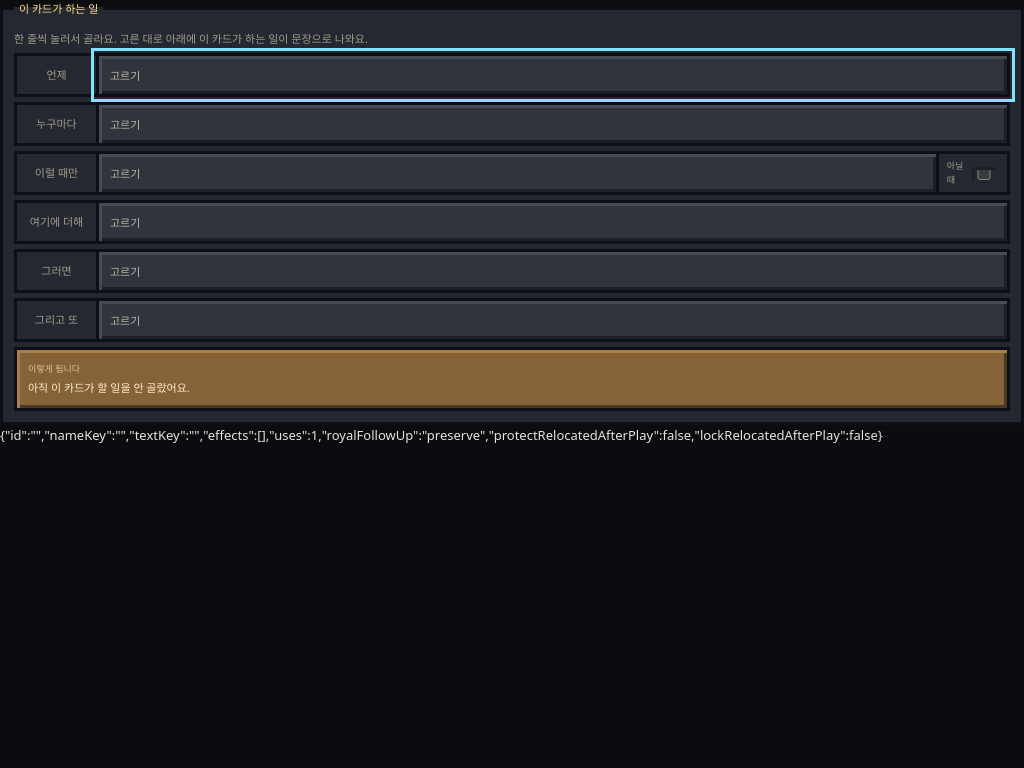
Test: Phase 2 — a slot is a chip that opens a sheet › opens a sheet for a SINGLE-option slot too (ADR-001, no exceptions)
This screenshot has width=1024, height=768.
Click the button "고르기" next to "언제": [125, 75] box [96, 53, 1010, 97]
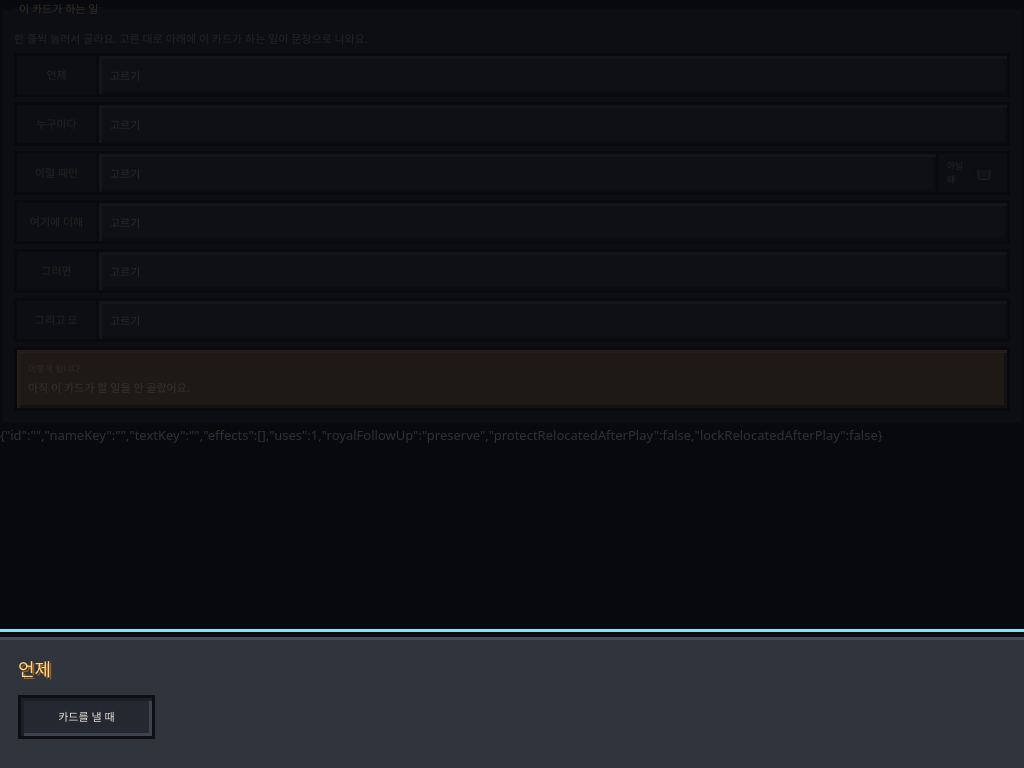
Expected: the button with test id "opt-when-on_play" is shown, [18, 695, 155, 739]
